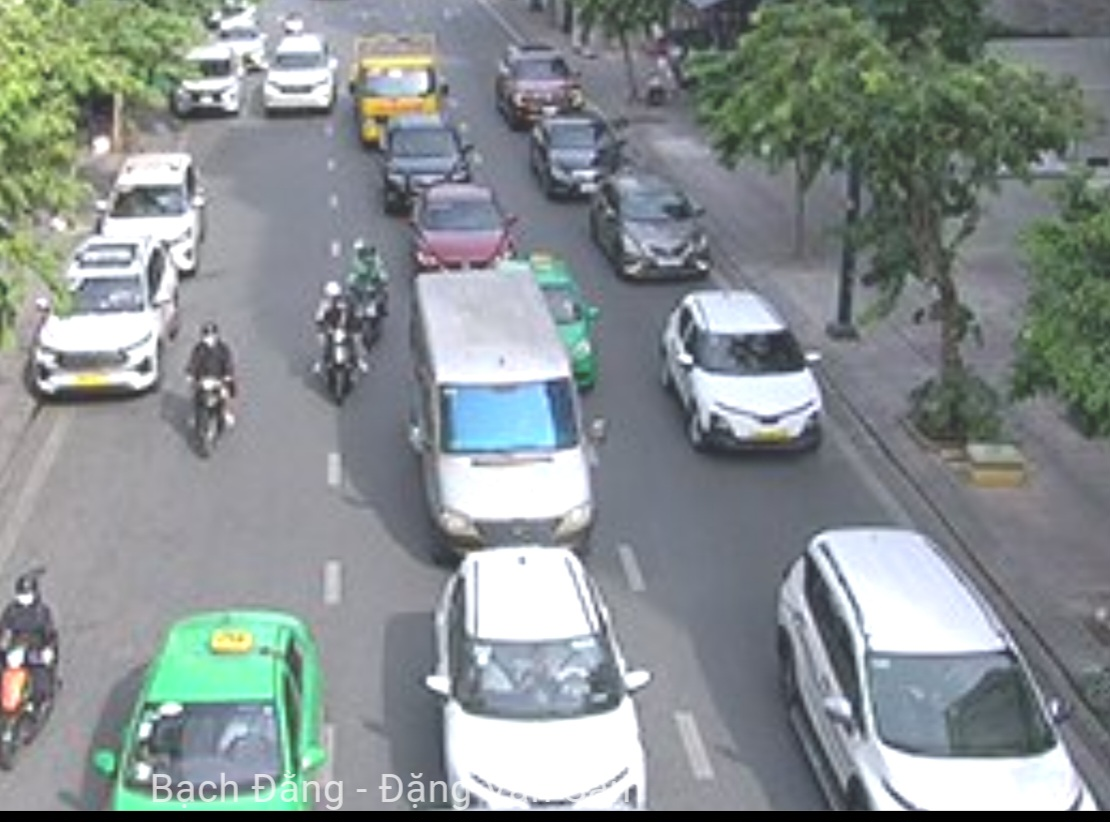car: (776, 529, 1102, 822), (427, 554, 651, 816), (401, 276, 601, 548), (120, 609, 317, 822), (660, 292, 827, 457), (38, 241, 176, 404), (588, 178, 712, 281), (119, 151, 206, 265), (406, 184, 516, 273), (525, 117, 621, 198), (387, 116, 469, 200), (498, 44, 581, 121), (263, 35, 339, 116), (174, 46, 241, 119)
